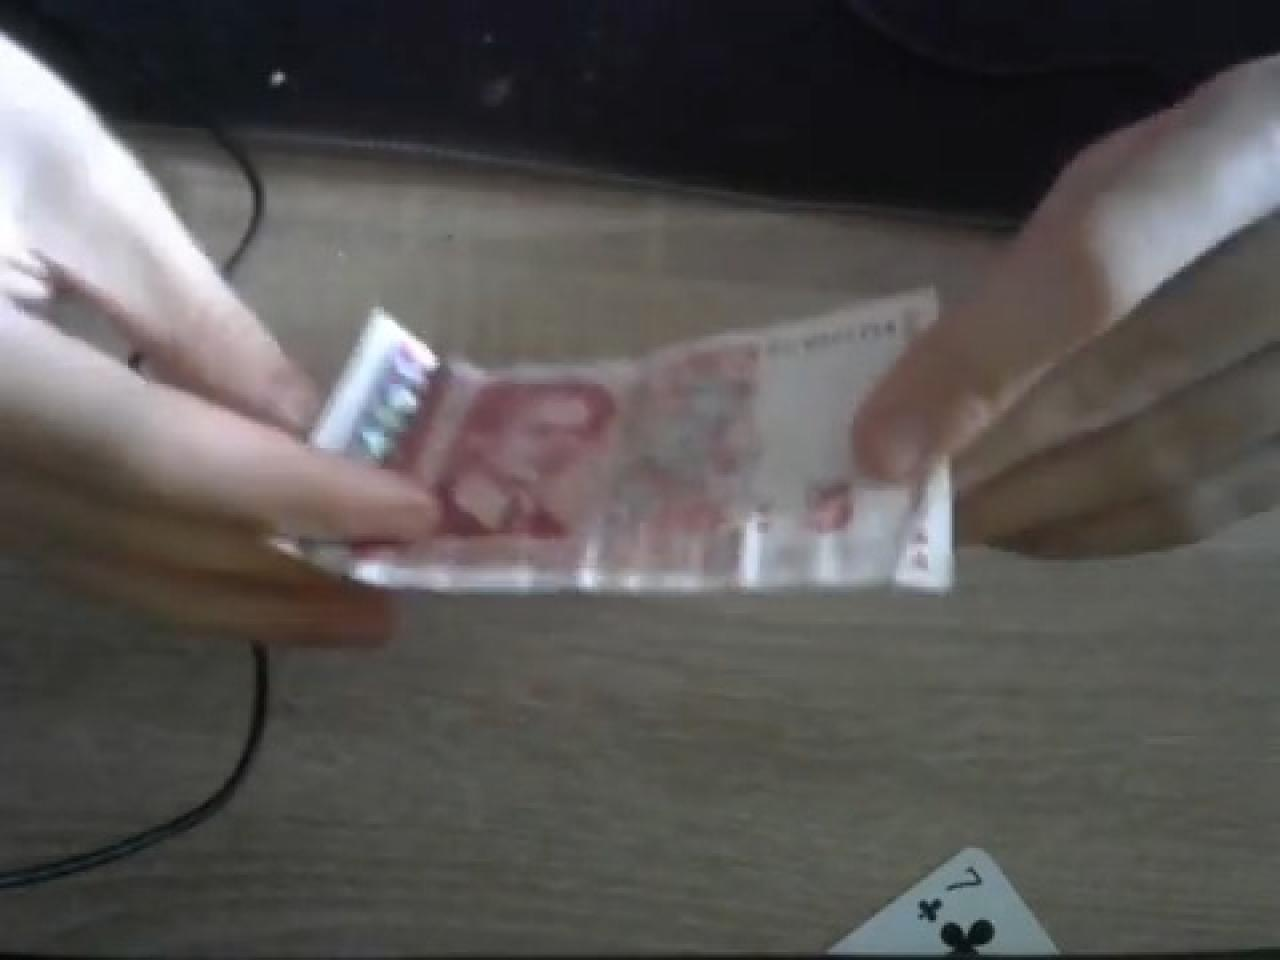5leva: (523, 339, 797, 587)
